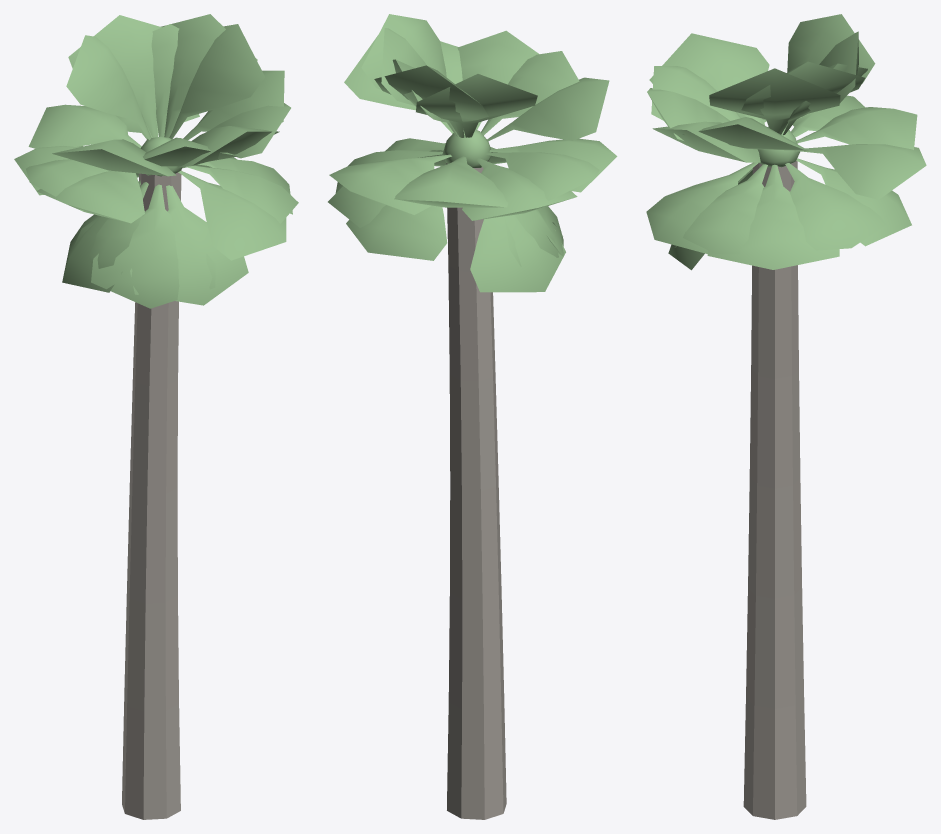
Rendered from tree-palm-b.glb.
3 renders of one model, left to right at view 1: azimuth 30°, elevation 25°; view 2: azimuth 150°, elevation 25°; view 3: azimuth 270°, elevation 25°, orthographic. The views are drawn at different scales.
Visible parts, largest first — view 1: tree-palm-b; view 2: tree-palm-b; view 3: tree-palm-b.
Boxes of the visible parts, x1,y1,x2,y2 form: tree-palm-b: (14,14,298,819); tree-palm-b: (328,14,617,819); tree-palm-b: (646,14,926,819).
Size of the model in its own units: 0.3516 by 1 by 0.3246.
